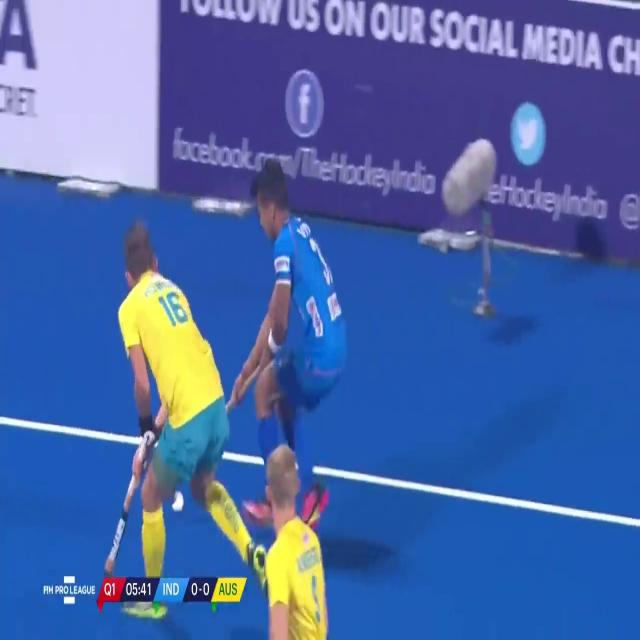ball: (167, 482, 194, 525)
